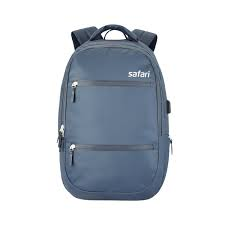backpack: (56, 23, 172, 200)
